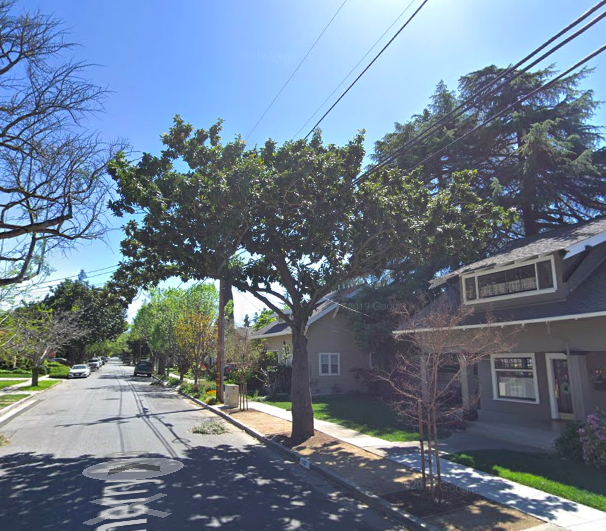tree: (105, 113, 519, 437)
